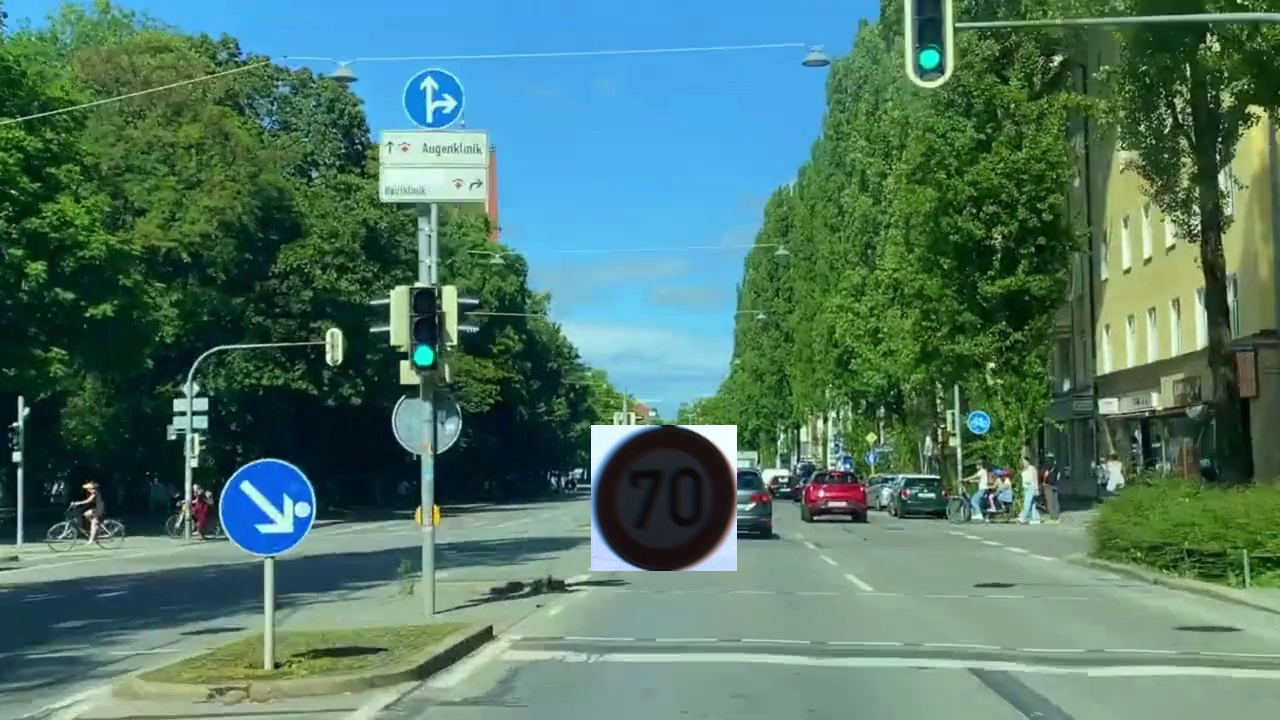Speed 70: (591, 425, 737, 571)
